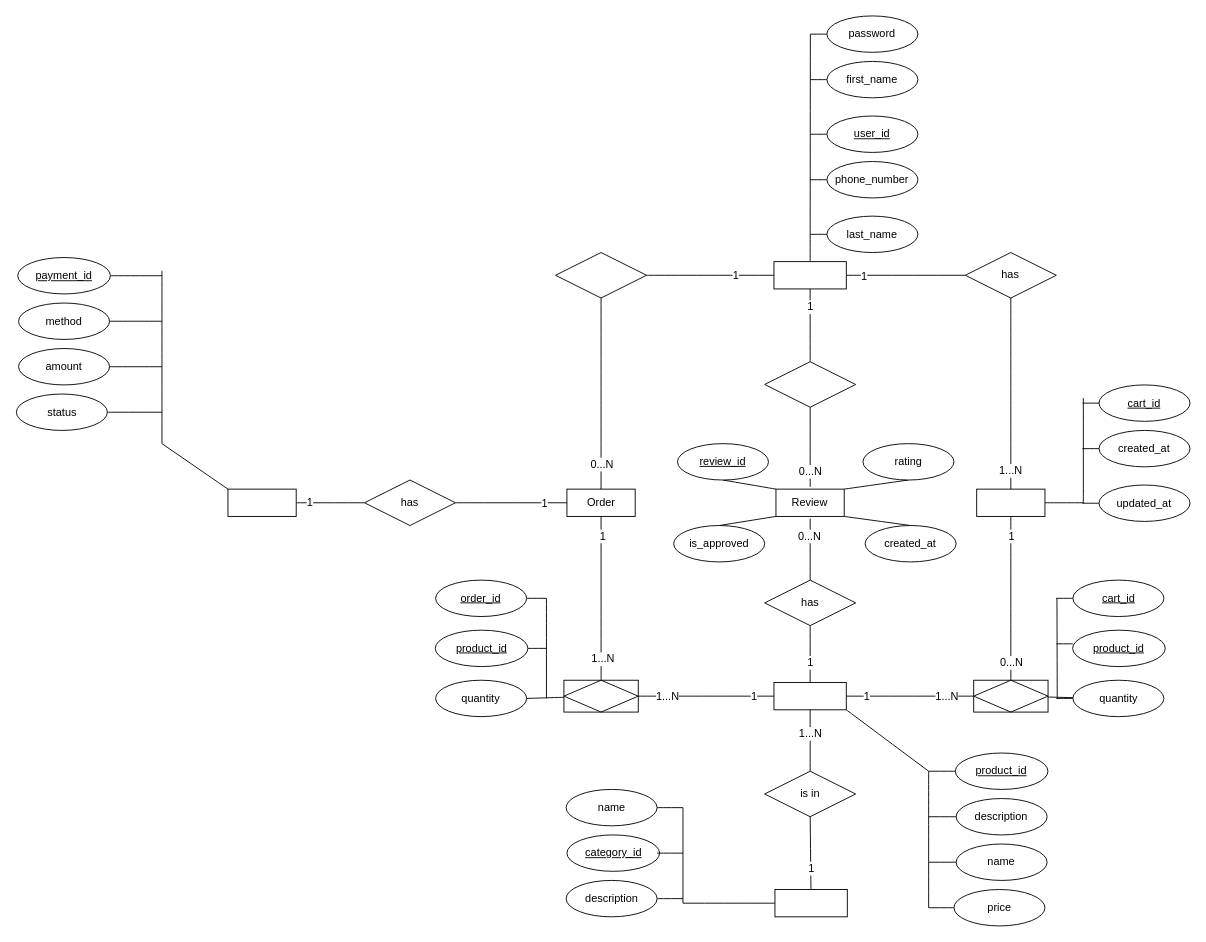
This 1206x942 diagram has some shape labels left out. Here are the shapes that lost their labels. From the top down, the box of each, then its label:
(555, 252, 647, 298): places
(773, 261, 846, 289): User
(764, 361, 856, 407): writes
(227, 488, 296, 516): Payment
(976, 488, 1045, 516): Cart
(563, 679, 638, 712): OrderItem
(773, 682, 846, 710): Product
(973, 679, 1048, 712): CartItem
(774, 889, 847, 917): Category
